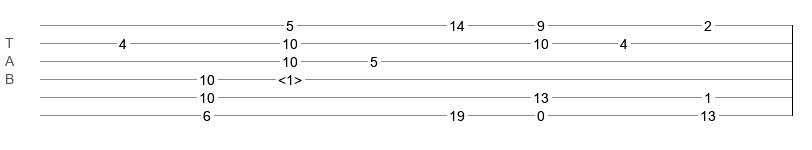0: (537, 108, 545, 118)
1: (704, 90, 712, 100)
10: (199, 72, 215, 82), (199, 90, 215, 100), (282, 54, 298, 64), (282, 36, 298, 46), (533, 36, 549, 46)
13: (533, 90, 549, 100), (700, 108, 716, 118)
14: (449, 18, 465, 28)
19: (449, 108, 465, 118)
2: (704, 18, 712, 28)
4: (119, 36, 127, 46), (620, 36, 628, 46)
5: (286, 18, 294, 28), (370, 54, 378, 64)
6: (203, 108, 211, 118)
9: (537, 18, 545, 28)
harmonic: (278, 72, 302, 82)
